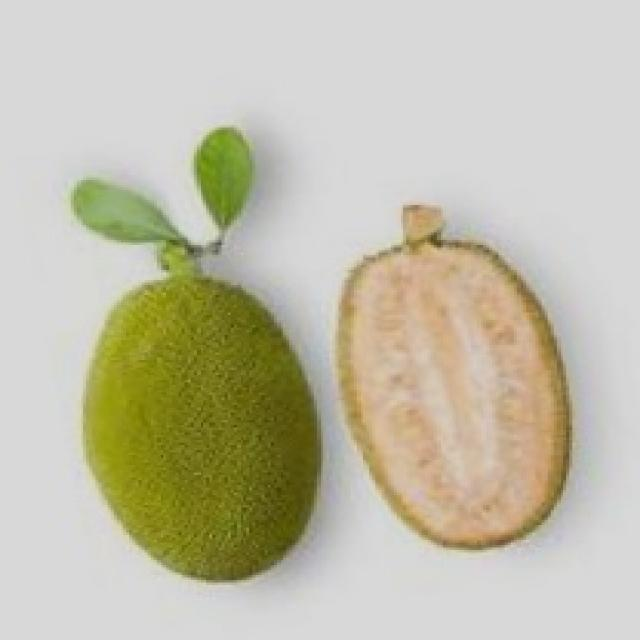Fruit: (286, 200, 616, 578), (59, 260, 348, 605)
